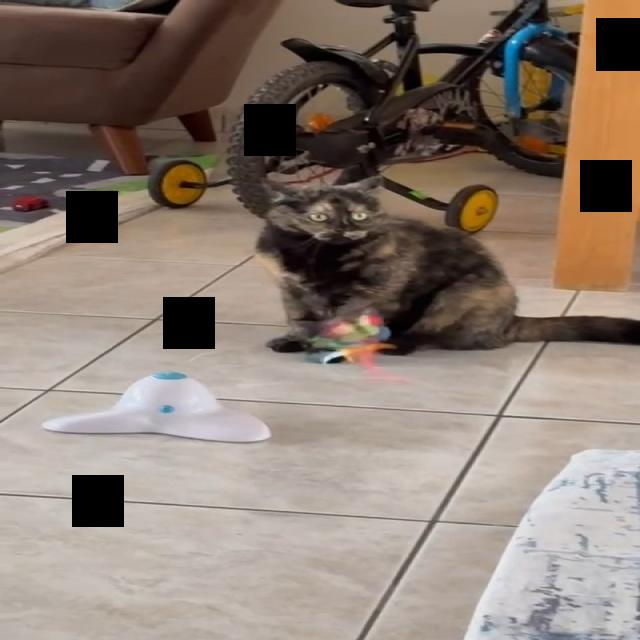authorized: (252, 174, 639, 356)
